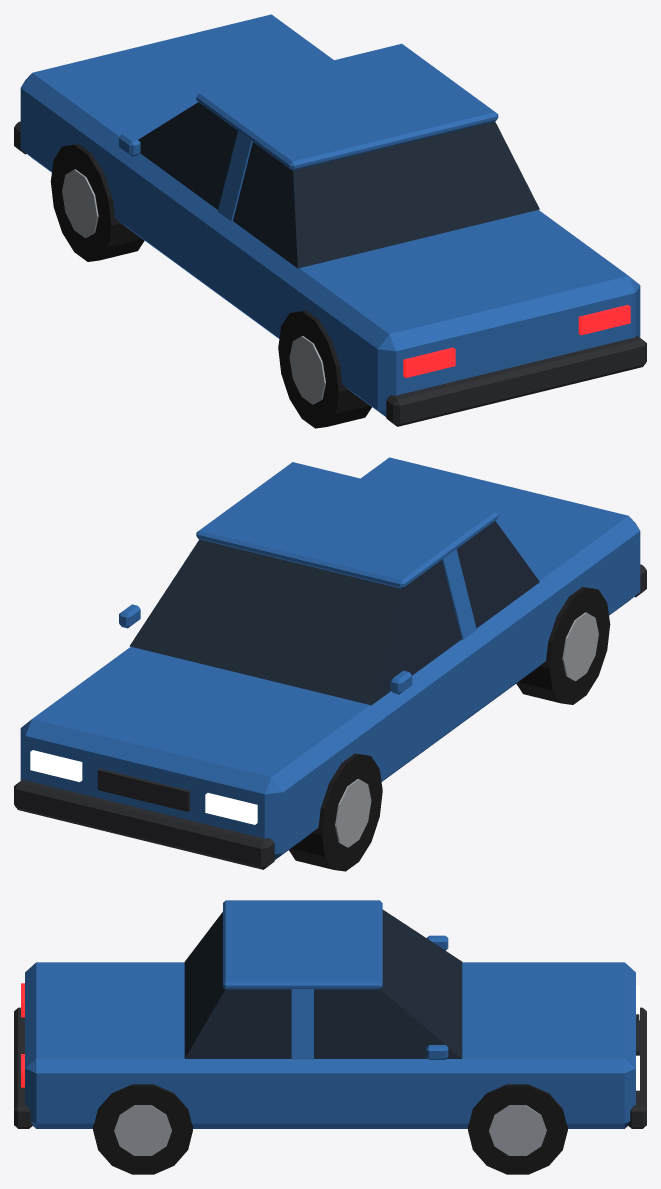
Rendered from carro_sedan.glb.
The picture shows the model from 3 angles, top to bottom: view 1: azimuth 30°, elevation 25°; view 2: azimuth 150°, elevation 25°; view 3: azimuth 270°, elevation 25°; orthographic projection. The views are drawn at different scales.
Parts seen in each view (by area): view 1: sedan_carroceria, roda_diant_esq, roda_tras_esq; view 2: sedan_carroceria, roda_tras_esq, roda_diant_esq; view 3: sedan_carroceria, roda_diant_dir, roda_tras_dir.
Boxes of the visible parts, x1,y1,x2,y2 form: sedan_carroceria: (14, 14, 646, 426); roda_diant_esq: (50, 144, 144, 261); roda_tras_esq: (278, 310, 371, 428); sedan_carroceria: (14, 457, 646, 869); roda_tras_esq: (516, 587, 610, 704); roda_diant_esq: (289, 753, 382, 871); sedan_carroceria: (14, 900, 646, 1128); roda_diant_dir: (468, 1084, 567, 1174); roda_tras_dir: (93, 1084, 192, 1174).
Bounding box in the file's own units: 1.94 × 1.42 × 4.56.
